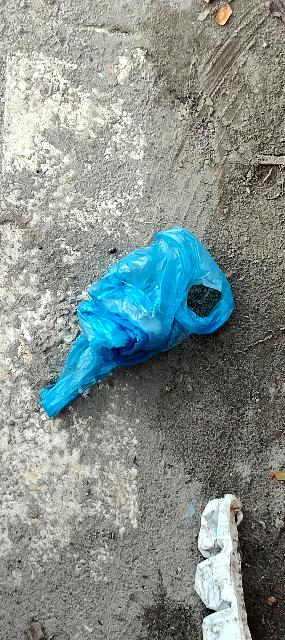polythene: (0, 202, 258, 434)
